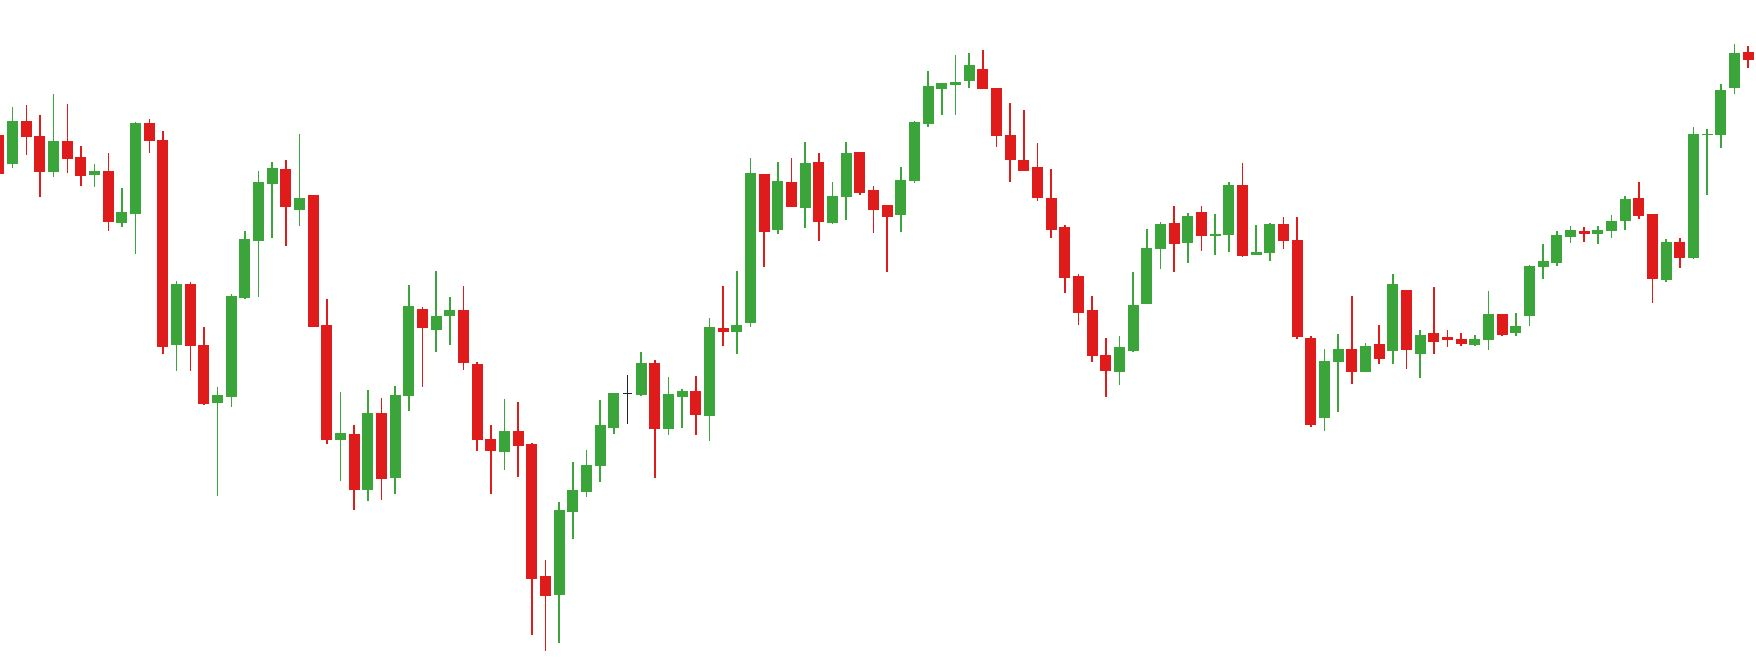buy: (1100, 276, 1329, 431), (757, 174, 895, 277), (1535, 220, 1673, 311)
